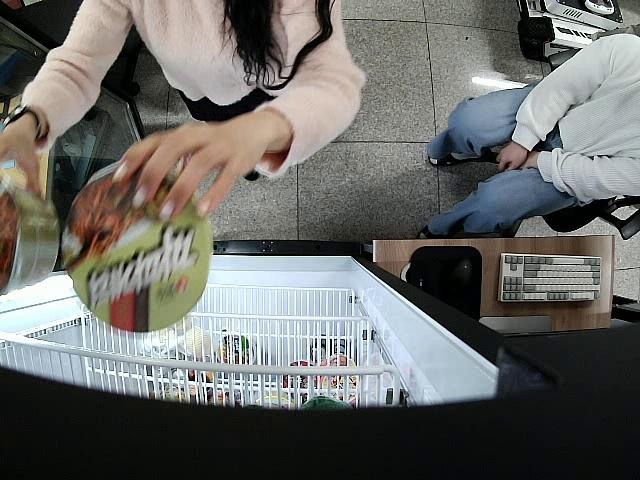00_hand: (111, 122, 269, 219), (0, 125, 42, 196)
03_chapagetti_L: (63, 166, 208, 330), (0, 169, 60, 299)
